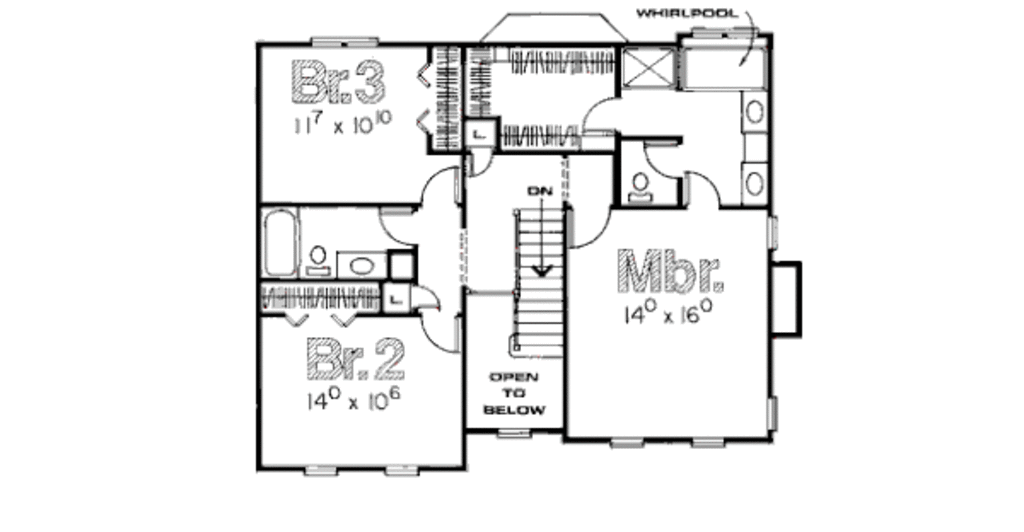door: (412, 166, 467, 207), (569, 207, 614, 253), (420, 310, 464, 356), (373, 206, 418, 250), (580, 93, 619, 141), (644, 137, 684, 182), (684, 168, 724, 209), (472, 146, 501, 182), (406, 282, 442, 309)
large_sink: (300, 243, 338, 286), (625, 170, 660, 207)
small_sink: (737, 92, 775, 209), (339, 250, 390, 282)
stairs: (507, 206, 571, 368)
tub: (681, 47, 770, 92), (259, 207, 302, 289)
window: (381, 458, 427, 483), (682, 433, 730, 455), (758, 391, 782, 435), (491, 424, 536, 446), (307, 37, 388, 49), (762, 209, 782, 254), (609, 435, 644, 457), (303, 462, 340, 480)
